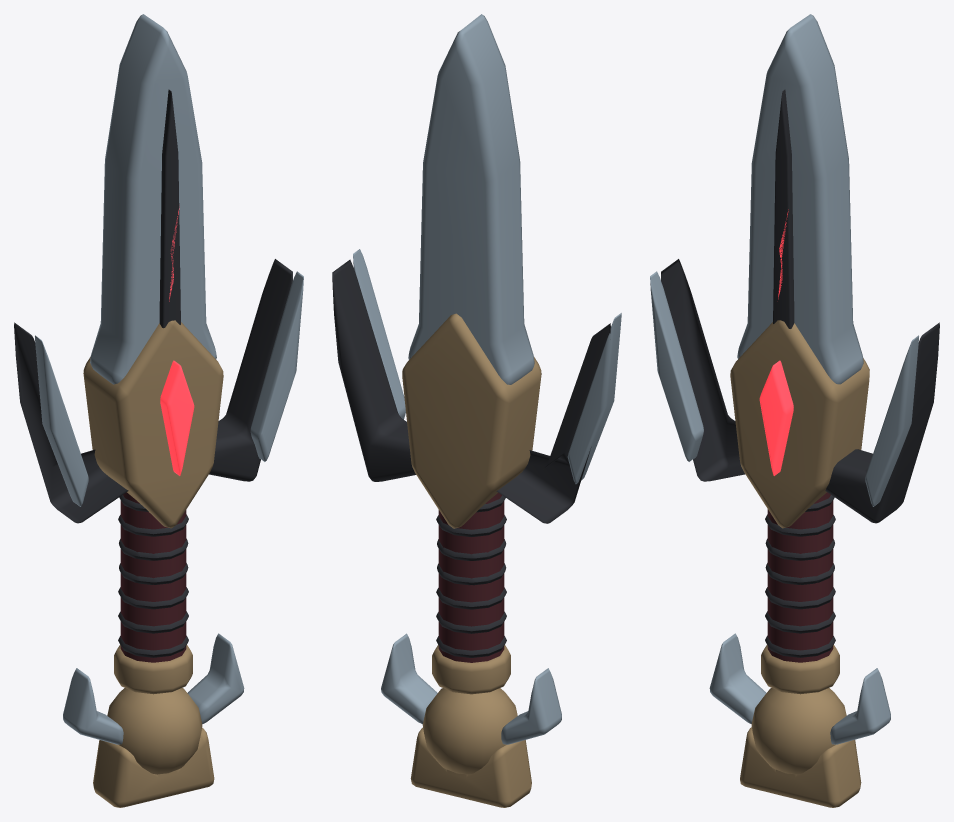
File: night-thorn.glb
The picture shows the model from 3 angles, left to right: view 1: azimuth 30°, elevation 25°; view 2: azimuth 150°, elevation 25°; view 3: azimuth 330°, elevation 25°; orthographic projection.
Parts seen in each view (by area): view 1: Spire forged blade.002, Gothic guard shield.002, Leather grip.002, Cathedral swept quillon.005, Pommel.002, Cathedral swept quillon.004, Pointed reliquary crest.004, Silver quillon edge.005, Recessed angular fuller.002, Silver quillon edge.004, Forged hooked thorn.007, Grip collar.004 (+8 smaller); view 2: Spire forged blade.002, Gothic guard shield.002, Cathedral swept quillon.005, Leather grip.002, Pommel.002, Cathedral swept quillon.004, Pointed reliquary crest.004, Silver quillon edge.004, Forged hooked thorn.007, Grip collar.004, Forged hooked thorn.006, Silver quillon edge.005 (+6 smaller); view 3: Spire forged blade.002, Gothic guard shield.002, Leather grip.002, Cathedral swept quillon.004, Cathedral swept quillon.005, Pommel.002, Pointed reliquary crest.004, Silver quillon edge.004, Recessed angular fuller.002, Silver quillon edge.005, Forged hooked thorn.006, Grip collar.004 (+8 smaller).
Boxes of the visible parts, left/top/right/bottom form: Spire forged blade.002: left=90, top=14, right=216, bottom=384; Gothic guard shield.002: left=83, top=320, right=223, bottom=528; Leather grip.002: left=120, top=492, right=186, bottom=662; Cathedral swept quillon.005: left=209, top=259, right=292, bottom=481; Pommel.002: left=107, top=688, right=202, bottom=774; Cathedral swept quillon.004: left=14, top=322, right=128, bottom=523; Pointed reliquary crest.004: left=93, top=727, right=214, bottom=807; Silver quillon edge.005: left=250, top=271, right=303, bottom=461; Recessed angular fuller.002: left=159, top=89, right=180, bottom=328; Silver quillon edge.004: left=35, top=335, right=88, bottom=506; Forged hooked thorn.007: left=187, top=633, right=244, bottom=723; Grip collar.004: left=114, top=644, right=192, bottom=694; Spire forged blade.002: left=408, top=14, right=534, bottom=384; Gothic guard shield.002: left=402, top=313, right=541, bottom=528; Cathedral swept quillon.005: left=332, top=259, right=415, bottom=481; Leather grip.002: left=438, top=492, right=504, bottom=662; Pommel.002: left=422, top=688, right=517, bottom=774; Cathedral swept quillon.004: left=496, top=323, right=610, bottom=523; Pointed reliquary crest.004: left=410, top=727, right=531, bottom=807; Silver quillon edge.004: left=567, top=313, right=621, bottom=483; Forged hooked thorn.007: left=381, top=633, right=437, bottom=724; Grip collar.004: left=432, top=645, right=510, bottom=694; Forged hooked thorn.006: left=501, top=668, right=561, bottom=744; Silver quillon edge.005: left=353, top=249, right=405, bottom=419; Spire forged blade.002: left=737, top=14, right=863, bottom=384; Gothic guard shield.002: left=730, top=320, right=869, bottom=528; Leather grip.002: left=767, top=492, right=833, bottom=662; Cathedral swept quillon.004: left=661, top=259, right=744, bottom=481; Cathedral swept quillon.005: left=825, top=322, right=939, bottom=523; Pommel.002: left=751, top=688, right=846, bottom=774; Pointed reliquary crest.004: left=740, top=727, right=861, bottom=807; Silver quillon edge.004: left=650, top=271, right=703, bottom=461; Recessed angular fuller.002: left=773, top=89, right=794, bottom=328; Silver quillon edge.005: left=865, top=335, right=918, bottom=506; Forged hooked thorn.006: left=709, top=633, right=766, bottom=723; Grip collar.004: left=761, top=644, right=839, bottom=694.
Size of the model in its own units: 0.2394 by 0.6717 by 0.084.
